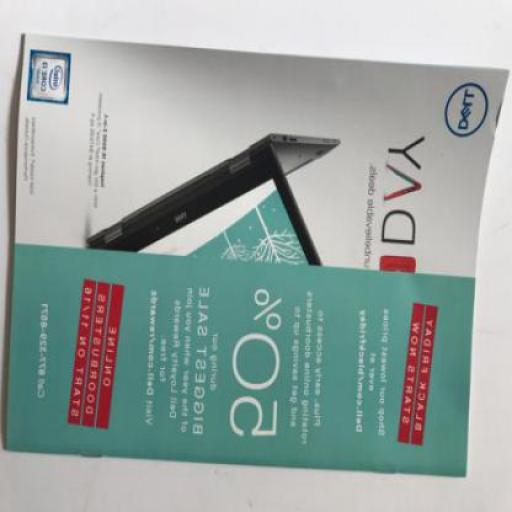paper: (8, 30, 510, 475)
